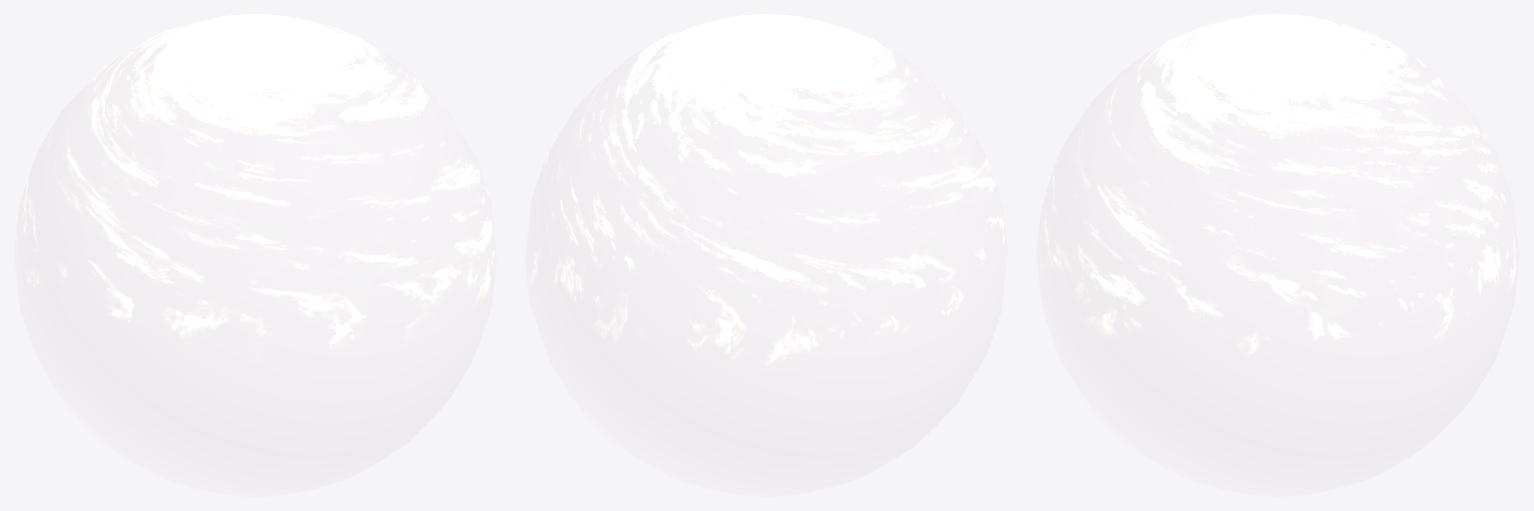
The model's file is planet-01-transformed.glb.
The picture shows the model from 3 angles, left to right: view 1: azimuth 30°, elevation 25°; view 2: azimuth 150°, elevation 25°; view 3: azimuth 270°, elevation 25°; orthographic projection.
Parts seen in each view (by area): view 1: Clouds_1_0; view 2: Clouds_1_0; view 3: Clouds_1_0.
Part boxes in pixels (box(x1,y1,x2,y2)): Clouds_1_0: box(14, 14, 496, 496); Clouds_1_0: box(525, 14, 1007, 496); Clouds_1_0: box(1036, 14, 1519, 496).
Size of the model in its own units: 2.07 by 2.07 by 2.07.
Materials: 3 (3 with a texture image).
